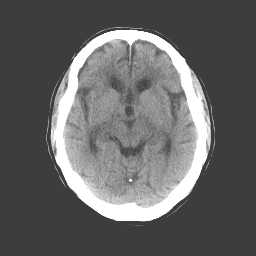ischemic: (167, 105, 174, 137)
